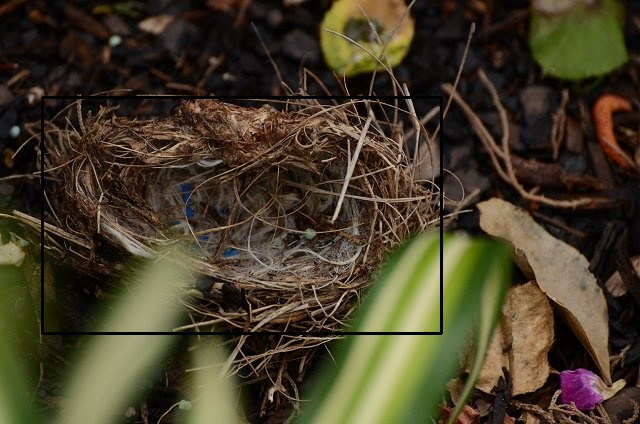bird-nest: (39, 97, 447, 351)
